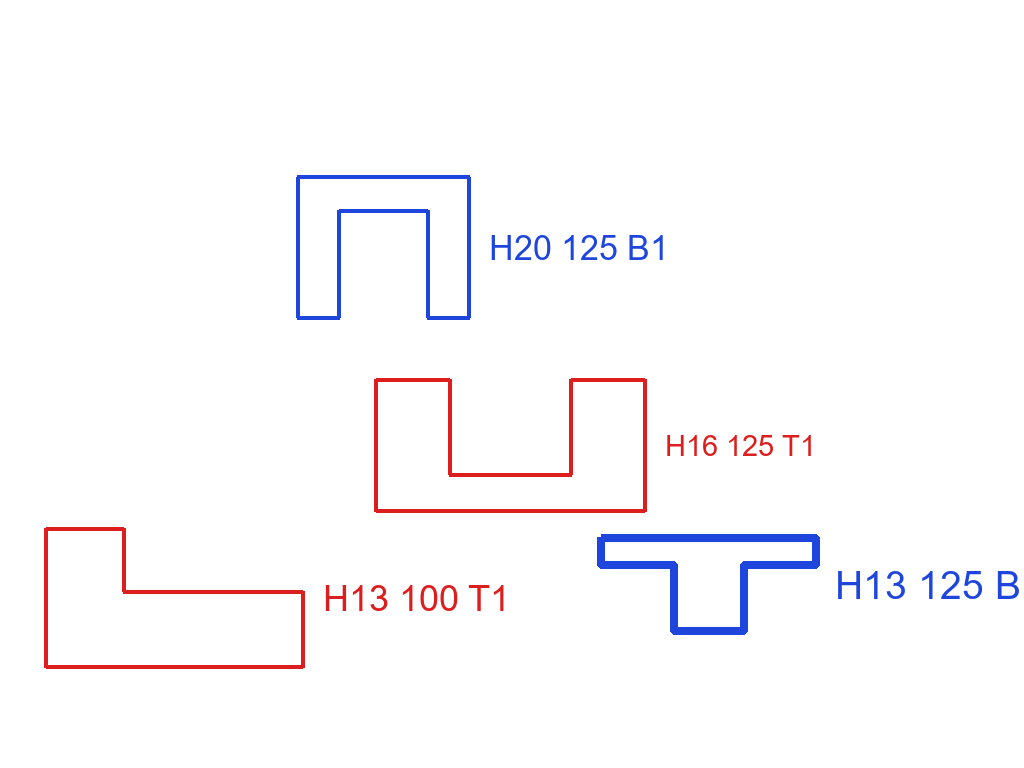shape: (43, 524, 307, 672), (372, 375, 649, 515), (293, 173, 473, 322), (596, 531, 821, 638)
text: (833, 569, 1023, 601), (321, 583, 513, 613), (487, 233, 671, 262), (663, 433, 818, 458)
